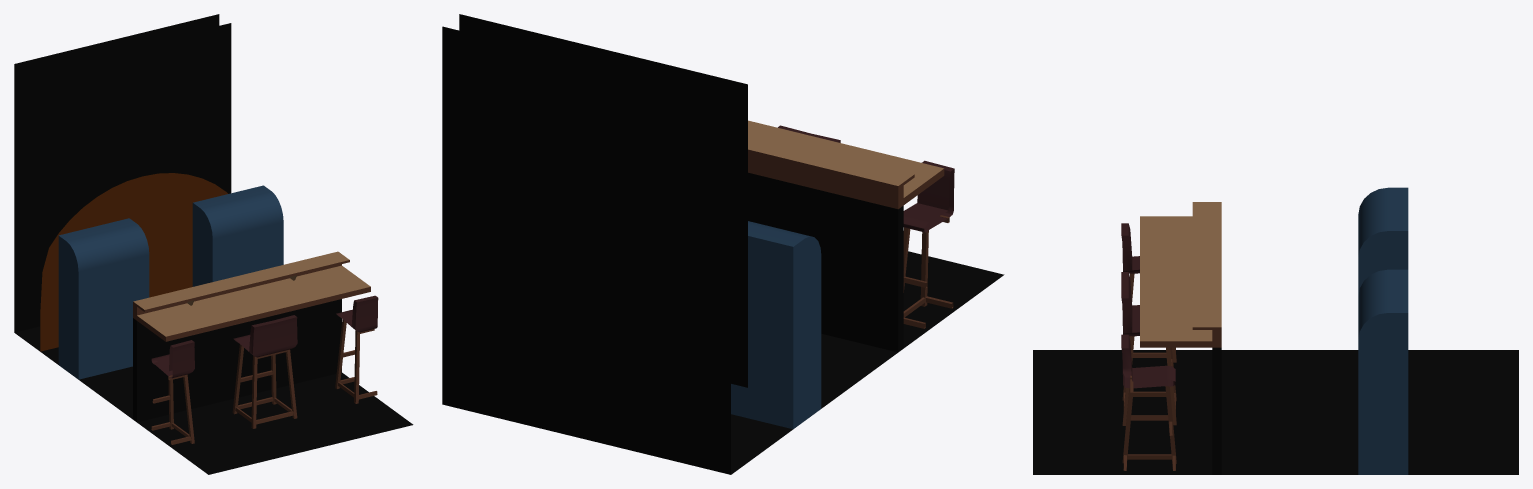
File: SettingBackground_1.fbx
3 renders of one model, left to right at view 1: azimuth 30°, elevation 25°; view 2: azimuth 150°, elevation 25°; view 3: azimuth 270°, elevation 25°, orthographic. The views are drawn at different scales.
Visible parts, largest first — view 1: pDisc2; view 2: pDisc2; view 3: pDisc2.
Part boxes in pixels (x1,y1,x2,y2): pDisc2: (14, 14, 413, 474); pDisc2: (442, 14, 1004, 474); pDisc2: (1033, 187, 1518, 474).
Size of the model in its own units: 18.21 by 22.79 by 29.88.
